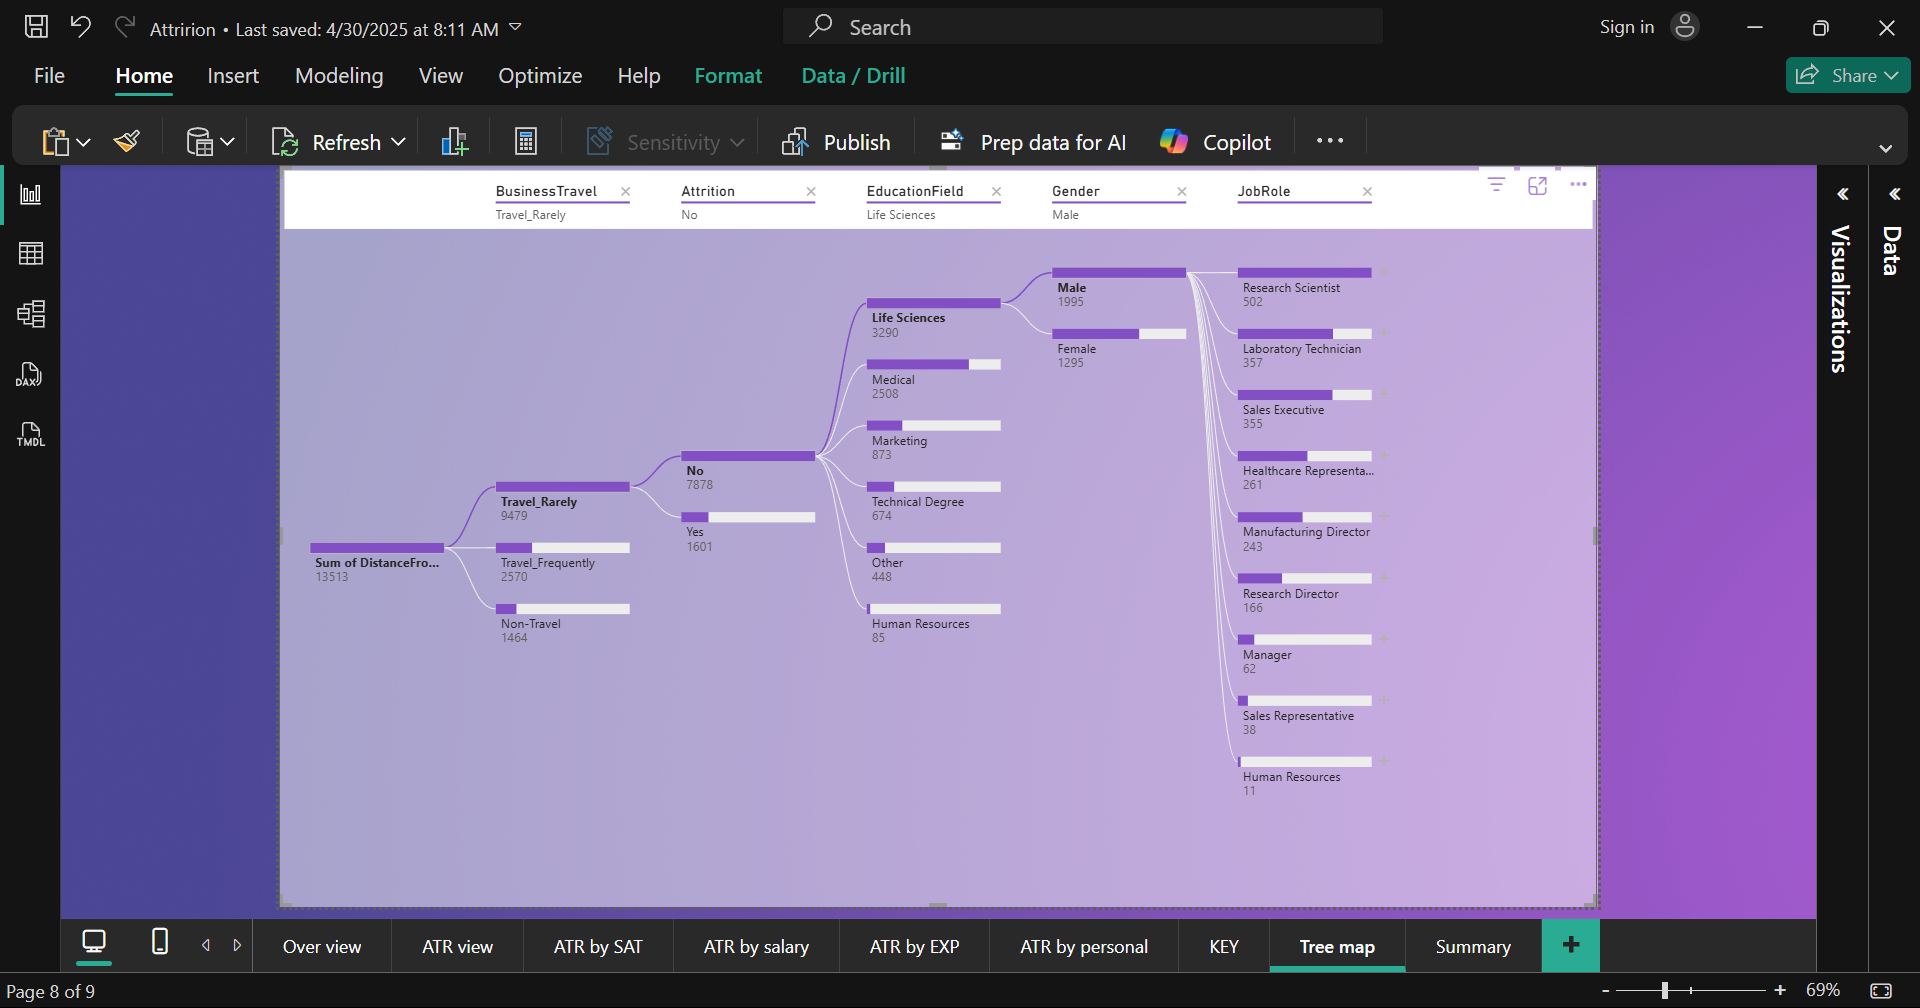

The dashboard page shown, as its layout file describes it:
{"tool":"powerbi","page":{"name":"Tree map","canvas":[1280,720],"ordinal":7},"visuals":[{"type":"decompositionTreeVisual","fields":{"ExplainBy":["clean data.BusinessTravel","clean data.DailyRate (groups)","clean data.Department","clean data.HourlyRate (groups)","clean data.JobRole","clean data.MaritalStatus","clean data.MonthlyIncome (groups)","clean data.MonthlyRate (groups)","clean data.OverTime","clean data.YearsAtCompany (groups)","clean data.Attrition","clean data.Gender"],"Analyze":["Sum(clean data.DistanceFromHome)"]},"box":[0,0,1279.7,720],"z":0}]}

Visuals, with their boxes on the page's 1280x720 design canvas (x1, y1, x2, y2). These are canvas units, not pixel positions in the 1920x1008 screenshot, which may show the page scaled, cropped or inside an application window:
decompositionTreeVisual - clean data.BusinessTravel x clean data.DailyRate (groups): crop(0, 0, 1280, 720)
